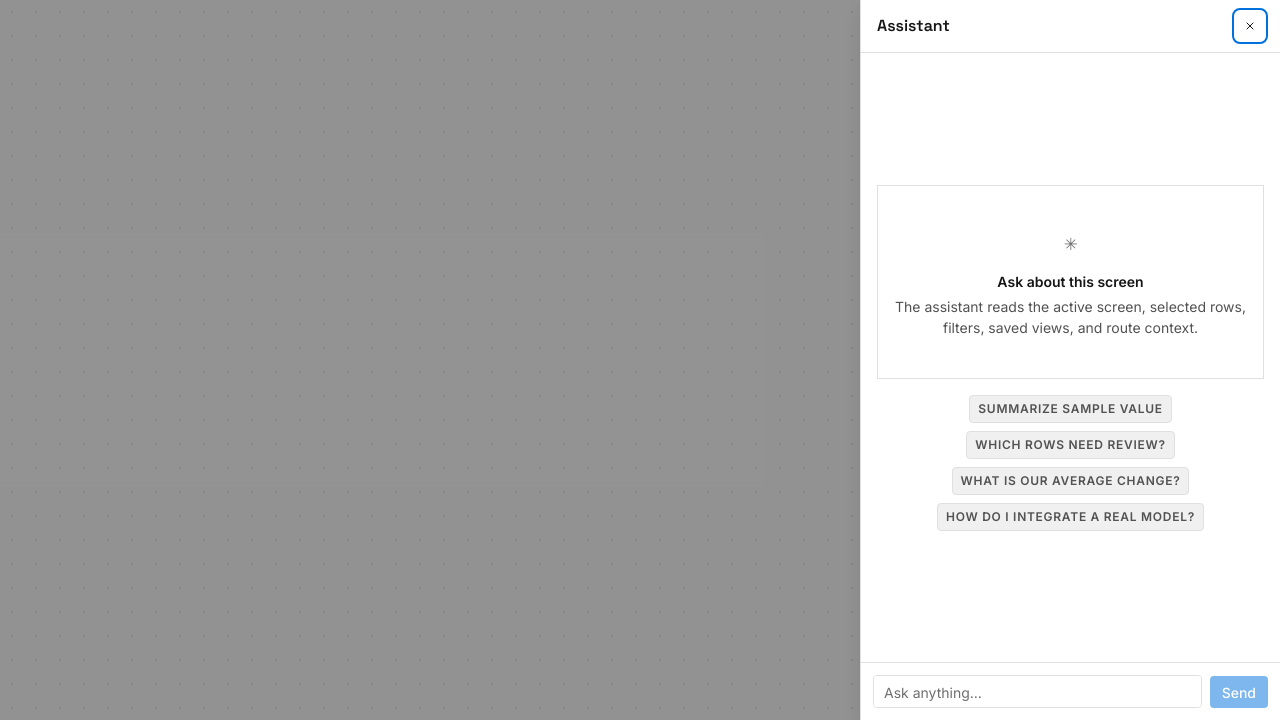
Test case: AssistantPanel › empty state shows suggestions; clicking one streams a data-aware answer
Click the button "Summarize sample value" at (1070, 408), box [969,394,1172,422]
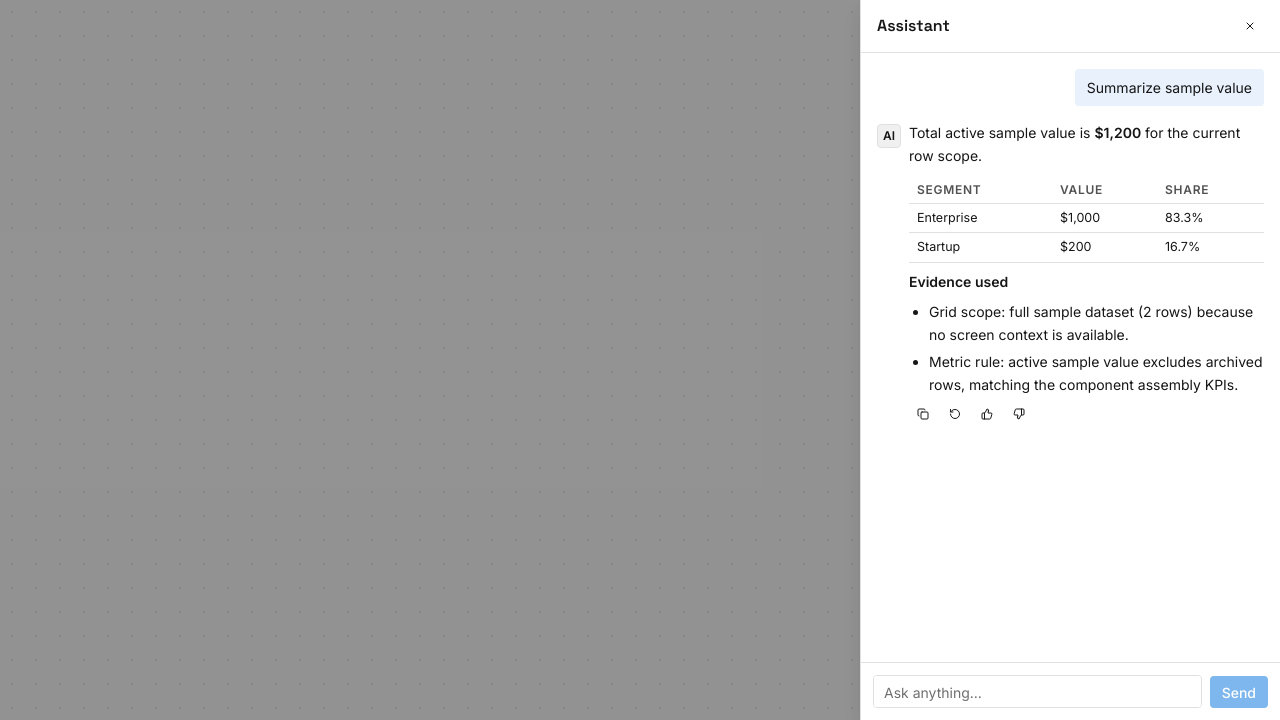
Now the button named "Copy message" is shown, box [909,400,937,428]
Now the button named "Regenerate response" is shown, box [941,400,969,428]
